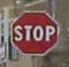stop: (8, 8, 60, 56)
